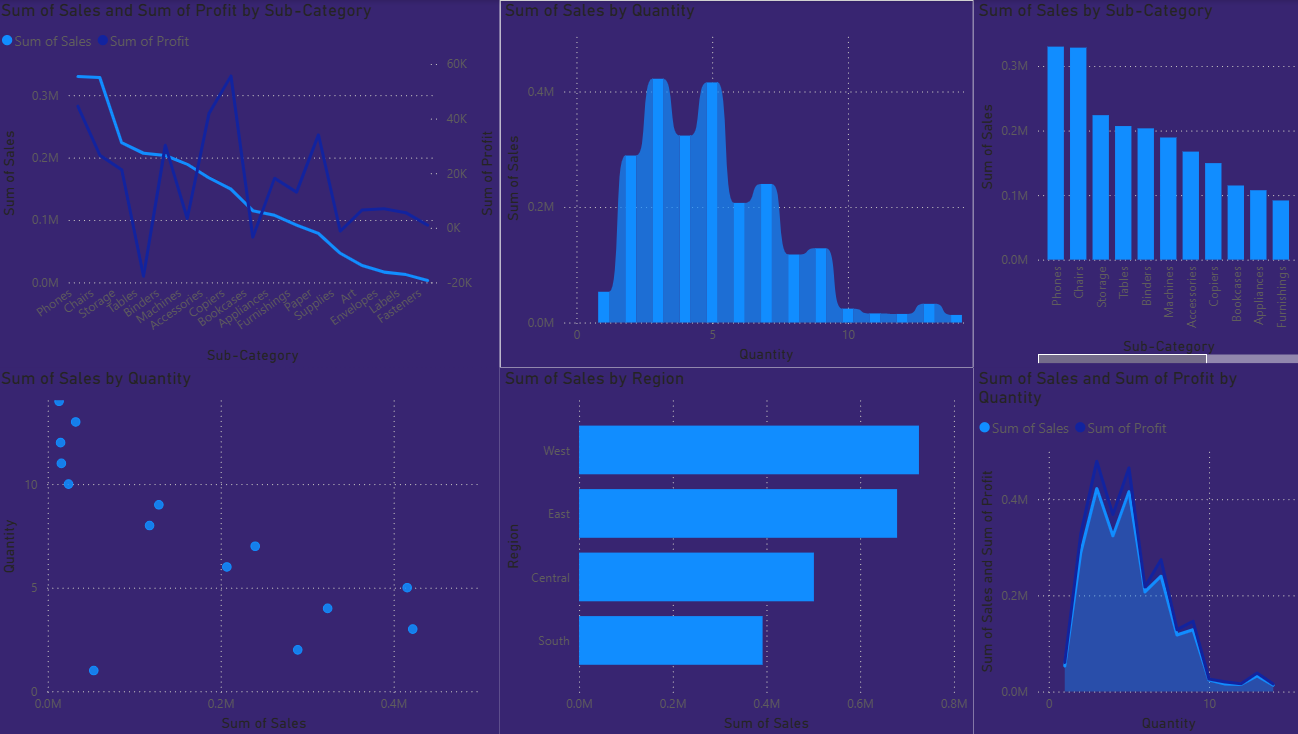

What the dashboard file says about the page in this screenshot:
{"tool":"powerbi","page":{"name":"Page 2","canvas":[1280,720],"ordinal":1},"visuals":[{"type":"lineChart","fields":{"Category":["Orders.Sub-Category"],"Y":["Sum(Orders.Sales)"],"Y2":["Sum(Orders.Profit)"]},"box":[0,0,492.9,360],"z":0},{"type":"scatterChart","fields":{"X":["Sum(Orders.Sales)"],"Y":["Orders.Quantity"]},"box":[0,359.5,492.8,360.7],"z":1000},{"type":"ribbonChart","fields":{"Y":["Sum(Orders.Sales)"],"Category":["Orders.Quantity"]},"box":[492.8,0,463.5,359.5],"z":2000},{"type":"clusteredBarChart","fields":{"Category":["Orders.Region"],"Y":["Sum(Orders.Sales)"]},"box":[492.8,359.5,463.5,360.7],"z":3000},{"type":"columnChart","fields":{"Y":["Sum(Orders.Sales)"],"Category":["Orders.Sub-Category"]},"box":[955.7,0,324.3,360],"z":4000},{"type":"stackedAreaChart","fields":{"Y":["Sum(Orders.Sales)","Sum(Orders.Profit)"],"Category":["Orders.Quantity"]},"box":[956.3,359.5,324.1,360.7],"z":5000}]}

Visuals, with their boxes in screenshot pixels (x1, y1, x2, y2), scaled from the page's 1280x720 canvas onto the 1298x734 screenshot:
lineChart - Orders.Sub-Category x Sum(Orders.Sales): l=0, t=0, r=500, b=367
scatterChart - Sum(Orders.Sales) x Orders.Quantity: l=0, t=366, r=500, b=733
ribbonChart - Sum(Orders.Sales) x Orders.Quantity: l=500, t=0, r=970, b=366
clusteredBarChart - Orders.Region x Sum(Orders.Sales): l=500, t=366, r=970, b=733
columnChart - Sum(Orders.Sales) x Orders.Sub-Category: l=969, t=0, r=1297, b=367
stackedAreaChart - Sum(Orders.Sales) x Sum(Orders.Profit): l=970, t=366, r=1297, b=733
